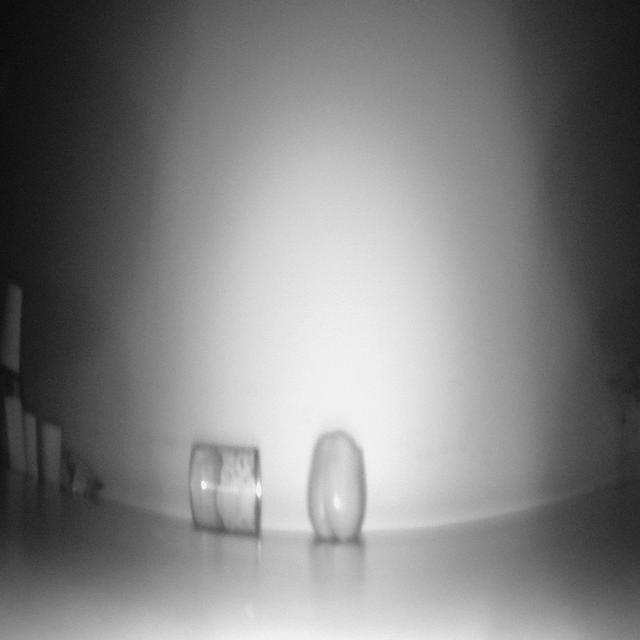targets: (188, 438, 268, 542), (305, 425, 364, 545), (44, 436, 104, 502), (612, 366, 640, 484), (0, 286, 27, 378), (5, 397, 29, 481), (40, 416, 63, 488), (25, 408, 43, 490)
